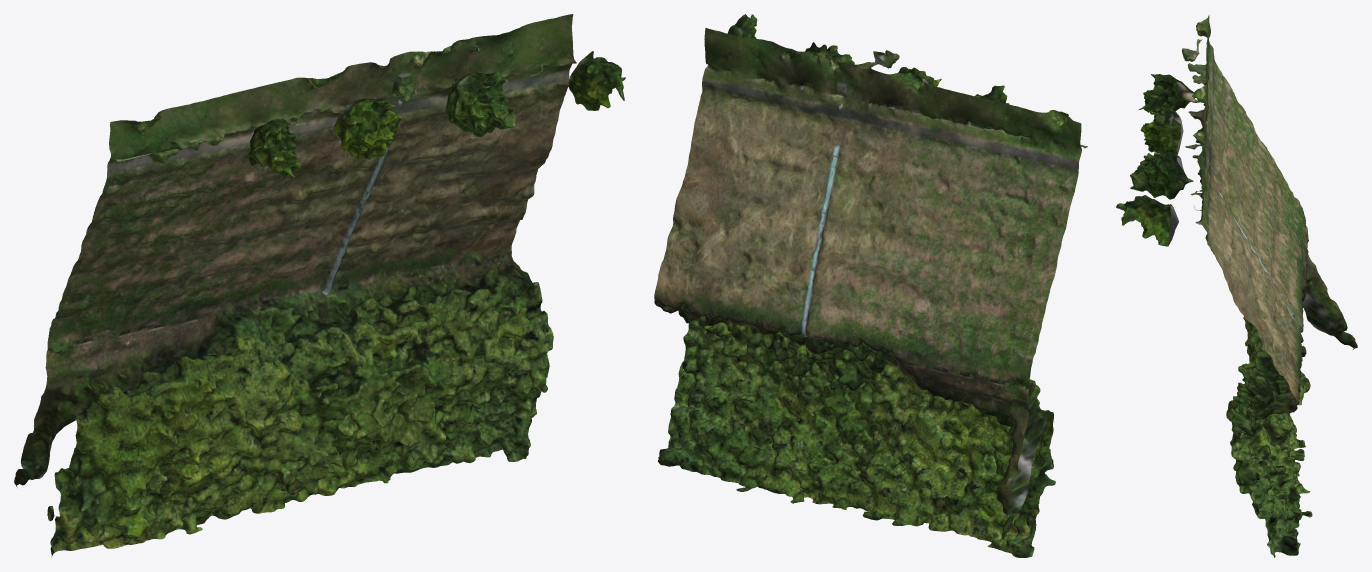
Rendered from Tile_+010_+006.fbx.
The picture shows the model from 3 angles, left to right: view 1: azimuth 30°, elevation 25°; view 2: azimuth 150°, elevation 25°; view 3: azimuth 270°, elevation 25°; orthographic projection. The views are drawn at different scales.
Visible parts, largest first — view 1: DefaultName; view 2: DefaultName; view 3: DefaultName.
Part boxes in pixels (box(x1,y1,x2,y2)): DefaultName: box(14, 14, 625, 557); DefaultName: box(654, 14, 1087, 557); DefaultName: box(1116, 15, 1357, 557).
Size of the model in its own units: 22.54 by 22.54 by 13.31.
